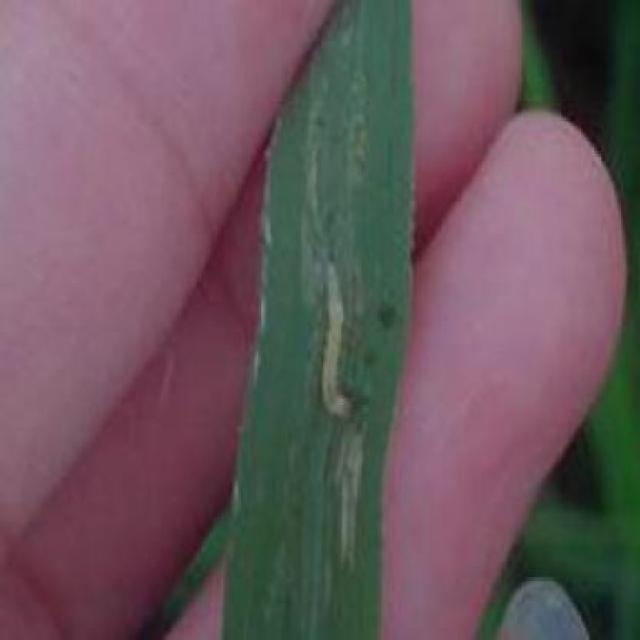leaf-folder: (311, 246, 369, 446)
